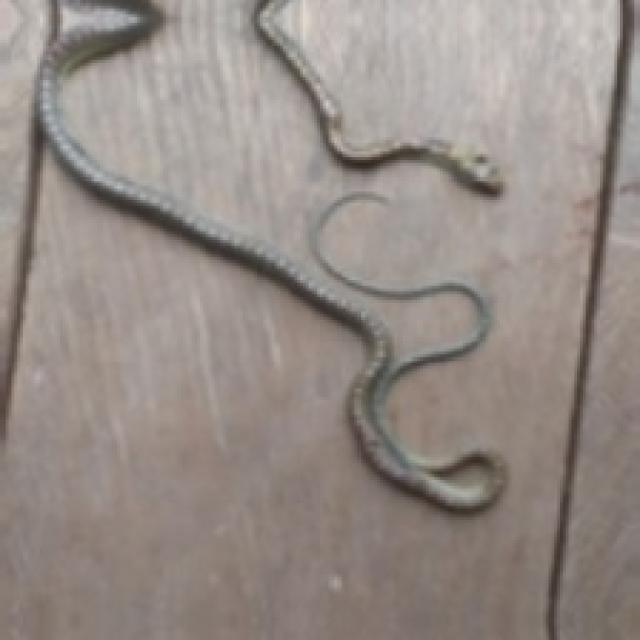paradise tree snake: (6, 0, 617, 637), (37, 0, 503, 509), (254, 3, 500, 191)
